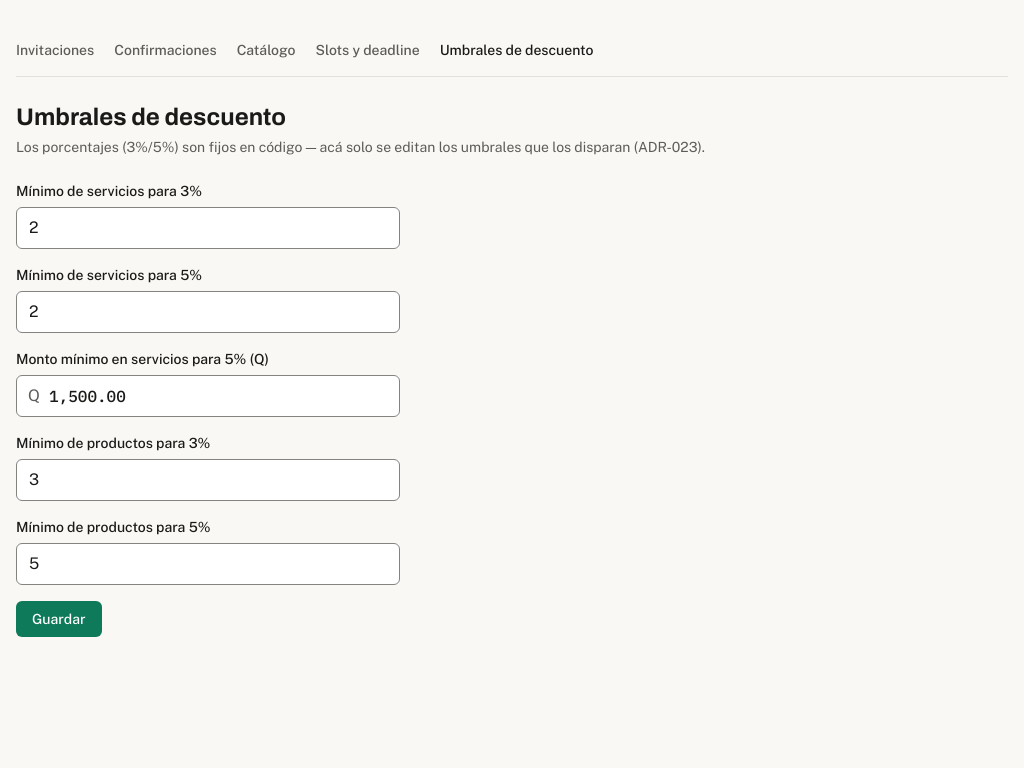
Test: ConfiguracionDescuentoPage — monto mínimo en quetzales › un monto vacío se rechaza con un mensaje en español
This screenshot has width=1024, height=768.
Clear the field labelled "Monto mínimo en servicios para 5% (Q)" at (208, 396), box [16,375,400,417]
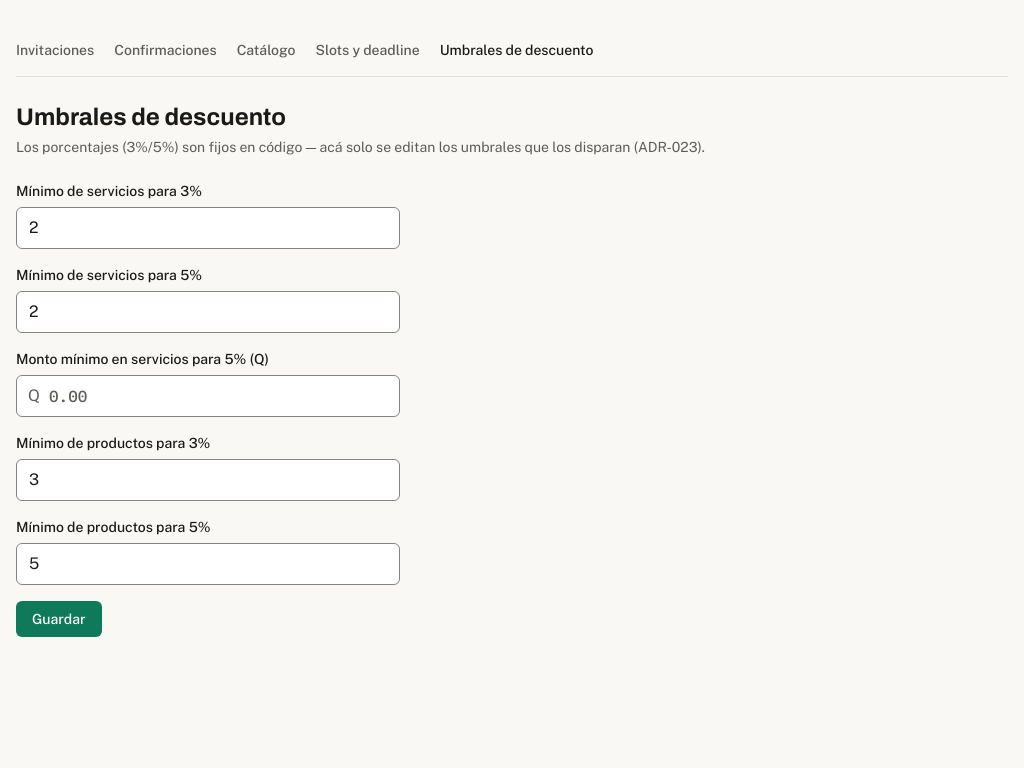
Click the button "Guardar" at (59, 619), box [16,601,102,637]
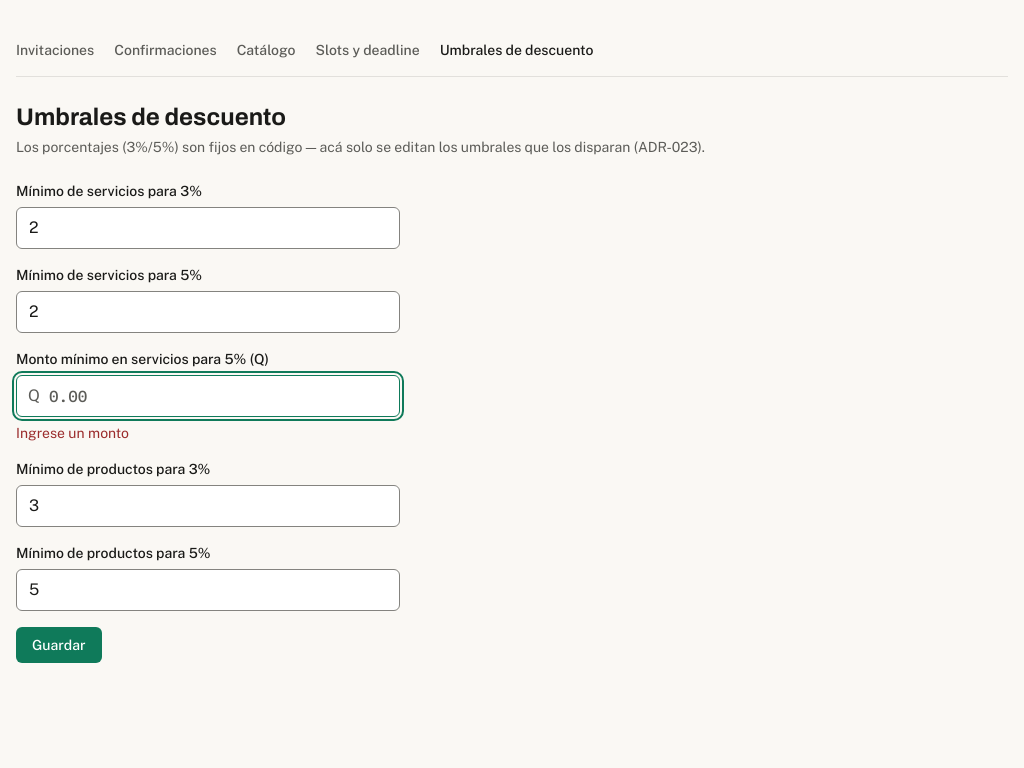
Now the text "Ingrese un monto" is shown, box [16,425,129,441]
